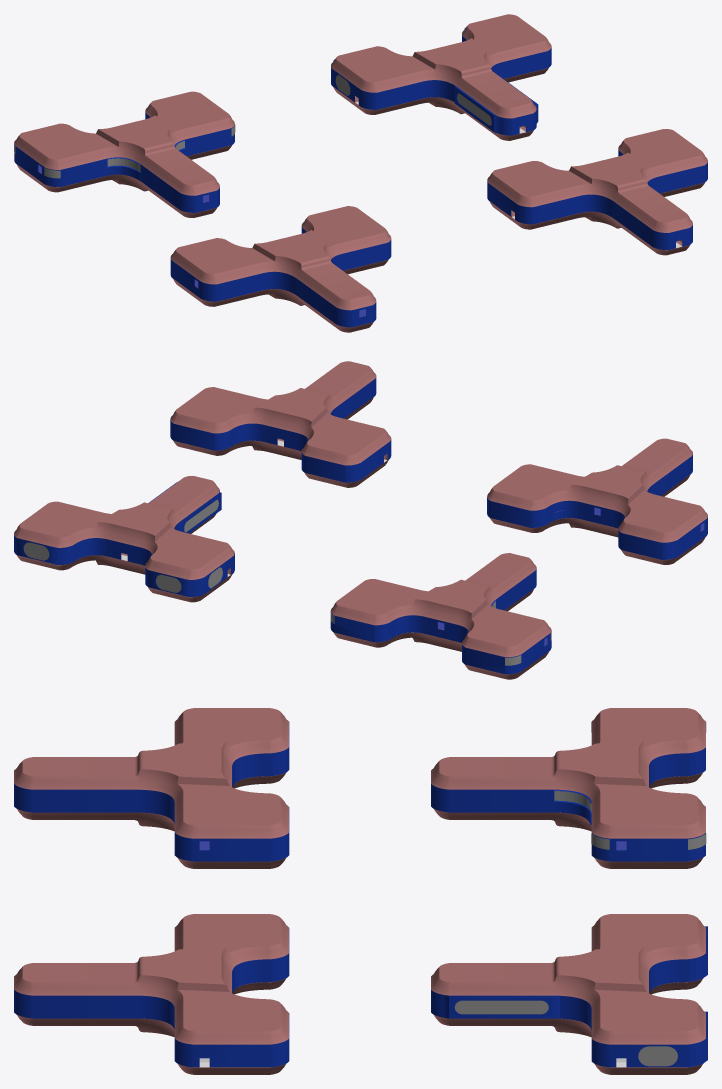
Rendered from Y Room 4 Models with and Without Glass.FBX.
3 views of the same model, one above another, from view 1: azimuth 30°, elevation 25°; view 2: azimuth 150°, elevation 25°; view 3: azimuth 270°, elevation 25° (orthographic). The views are drawn at different scales.
Visible parts, largest first — view 1: Plane063, Plane042, Plane066, Plane065; view 2: Plane063, Plane042, Plane065, Plane066; view 3: Plane042, Plane063, Plane065, Plane066, Box266, Box267.
Part boxes in pixels (bbox=[...]): Plane063: bbox=[487, 129, 707, 255]; Plane042: bbox=[170, 206, 391, 332]; Plane066: bbox=[331, 14, 551, 140]; Plane065: bbox=[14, 91, 234, 217]; Plane063: bbox=[170, 361, 391, 487]; Plane042: bbox=[487, 438, 707, 564]; Plane065: bbox=[330, 553, 551, 679]; Plane066: bbox=[14, 476, 234, 602]; Plane042: bbox=[14, 708, 289, 868]; Plane063: bbox=[14, 914, 289, 1074]; Plane065: bbox=[431, 708, 705, 868]; Plane066: bbox=[431, 914, 707, 1074]; Box266: bbox=[454, 1000, 548, 1014]; Box267: bbox=[638, 1046, 677, 1066].
Bounding box in the file's own units: 308 × 24.8 × 274.
